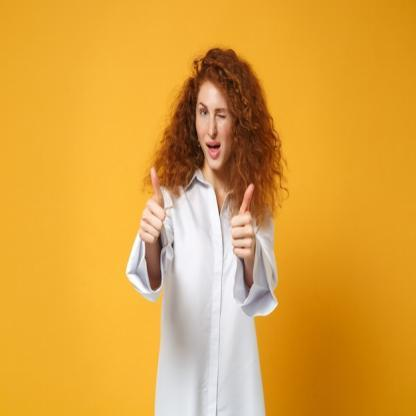thumb_up: (228, 178, 262, 266), (136, 163, 168, 244)
